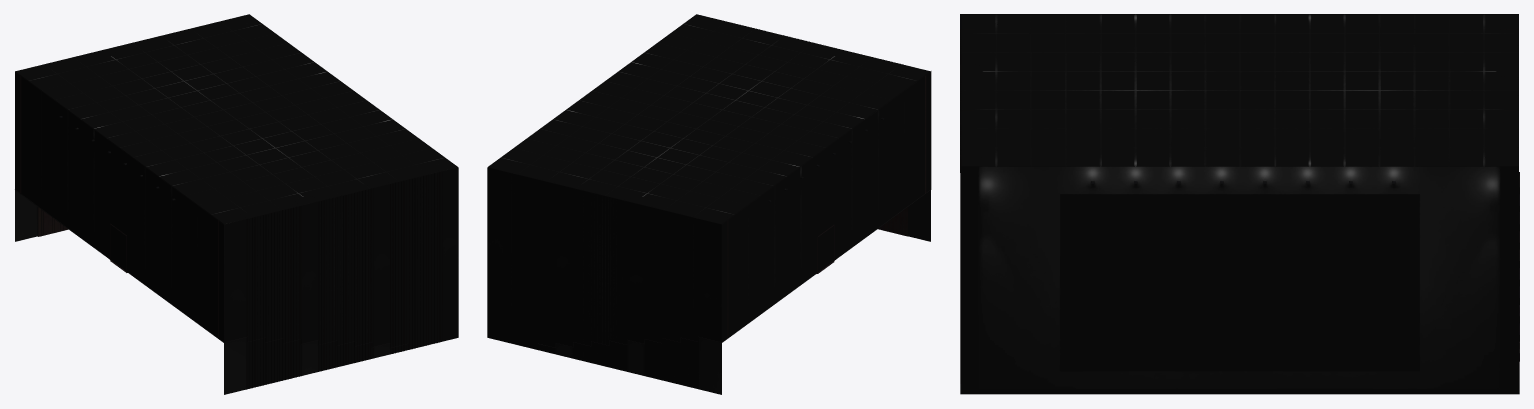
The picture shows the model from 3 angles, left to right: view 1: azimuth 30°, elevation 25°; view 2: azimuth 150°, elevation 25°; view 3: azimuth 270°, elevation 25°; orthographic projection. The views are drawn at different scales.
Visible parts, largest first — view 1: cinema_ceiling2_0, cinema_wallside2_0, cinema_wallback2_0, cinema_wallside1_0, cinema_column_0, cinema_floor1_0; view 2: cinema_ceiling2_0, cinema_wallside2_0, cinema_wallback2_0, cinema_wallside1_0, cinema_column_0; view 3: cinema_wallfront_0, cinema_ceiling2_0, cinema_wallside1_0, cinema_wallback2_0.
Part boxes in pixels (box(x1,y1,x2,y2)): cinema_ceiling2_0: box(15, 14, 457, 223); cinema_wallside2_0: box(15, 14, 458, 394); cinema_wallback2_0: box(15, 71, 224, 342); cinema_wallside1_0: box(37, 41, 442, 389); cinema_column_0: box(20, 75, 440, 347); cinema_floor1_0: box(15, 189, 457, 349); cinema_ceiling2_0: box(488, 14, 930, 224); cinema_wallside2_0: box(487, 15, 930, 394); cinema_wallback2_0: box(722, 71, 931, 342); cinema_wallside1_0: box(517, 20, 908, 236); cinema_column_0: box(727, 30, 926, 337); cinema_wallfront_0: box(961, 166, 1518, 394); cinema_ceiling2_0: box(961, 14, 1518, 166); cinema_wallside1_0: box(960, 29, 1518, 383); cinema_wallback2_0: box(960, 14, 1518, 172).
Size of the model in its own units: 22.83 by 15.65 by 34.78.
Materials: 23 (23 with a texture image).
